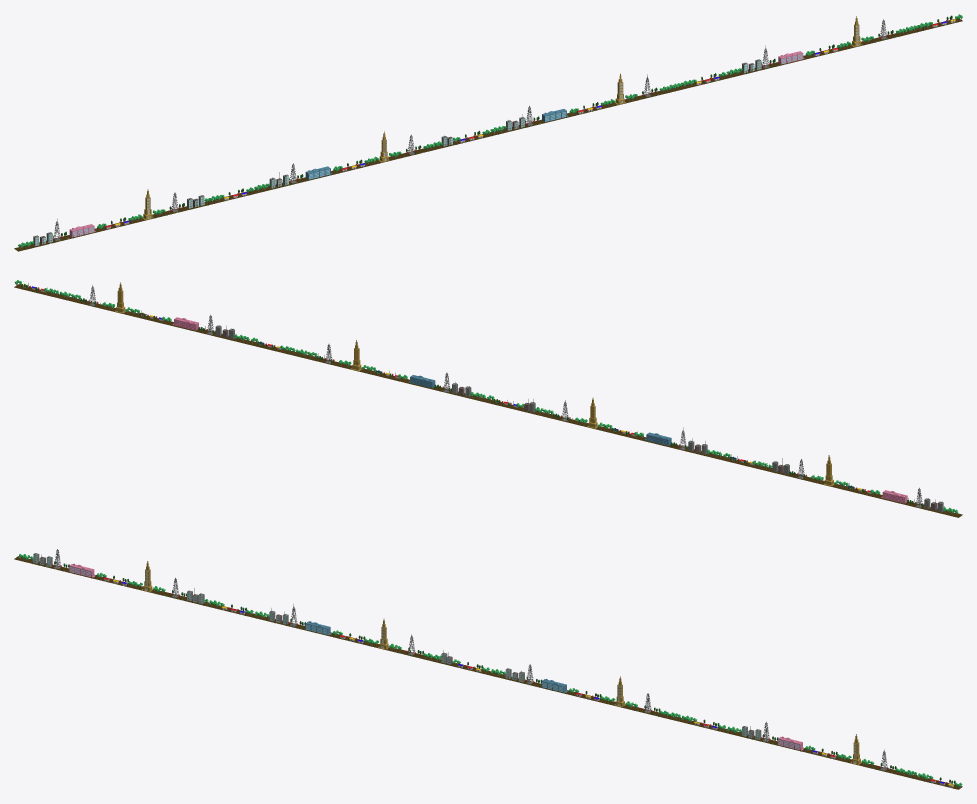
Rendered from city_map_03.fbx.
3 renders of one model, top to bottom at view 1: azimuth 30°, elevation 25°; view 2: azimuth 150°, elevation 25°; view 3: azimuth 330°, elevation 25°, orthographic.
Parts seen in each view (by area): view 1: Icosphere.001; view 2: Icosphere.001; view 3: Icosphere.001.
Boxes of the visible parts, x1,y1,x2,y2 form: Icosphere.001: [14, 14, 962, 251]; Icosphere.001: [14, 280, 962, 517]; Icosphere.001: [14, 549, 962, 789].
Bounding box in the file's own units: 128046 × 3748 × 1106.
